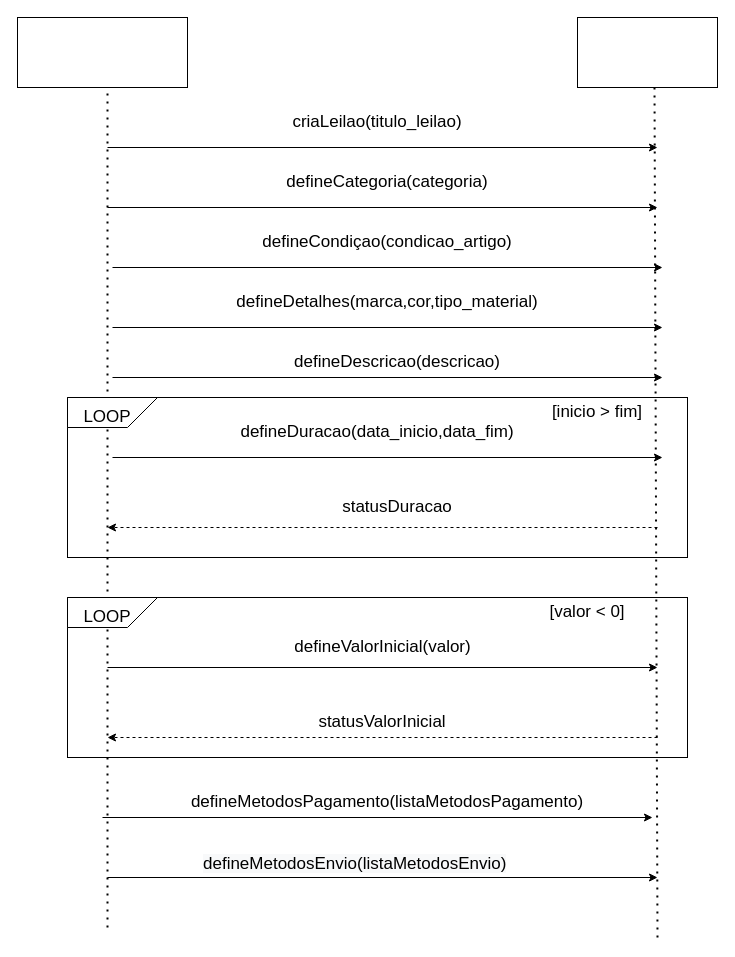
Image size: 735x957. Some labels were removed from this diagram. The shapes that lost their labels are listed below. From the top down, each one's centre as x and y in pixels, then its label:
pixel 102 52: : Vendedor
pixel 647 52: :Sistema
